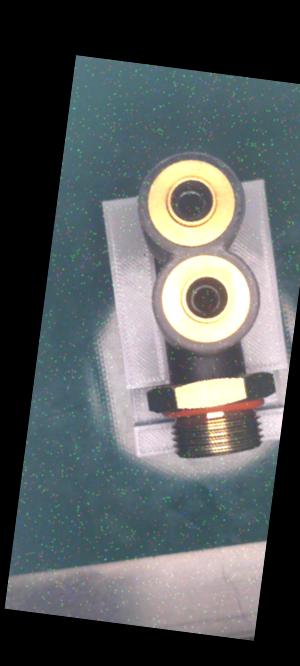craze: (202, 365, 219, 388)
